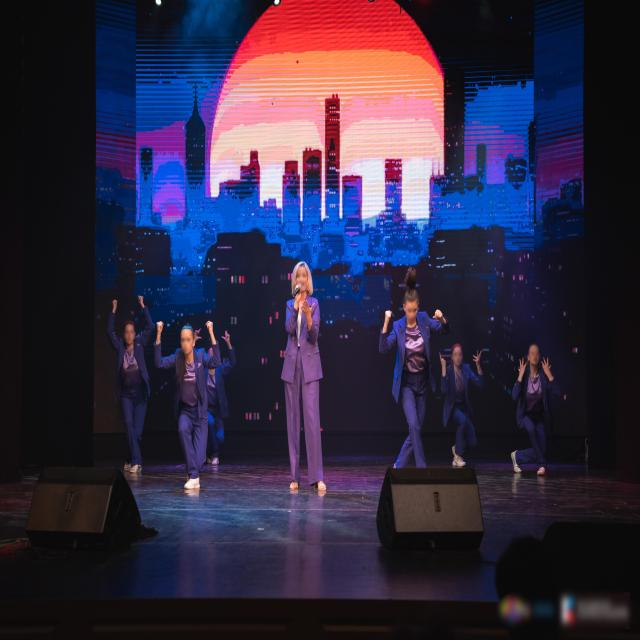Person: (362, 267, 442, 482), (281, 252, 330, 505), (100, 289, 156, 478), (506, 328, 570, 491), (169, 311, 219, 504), (442, 321, 492, 472), (200, 332, 243, 466)
